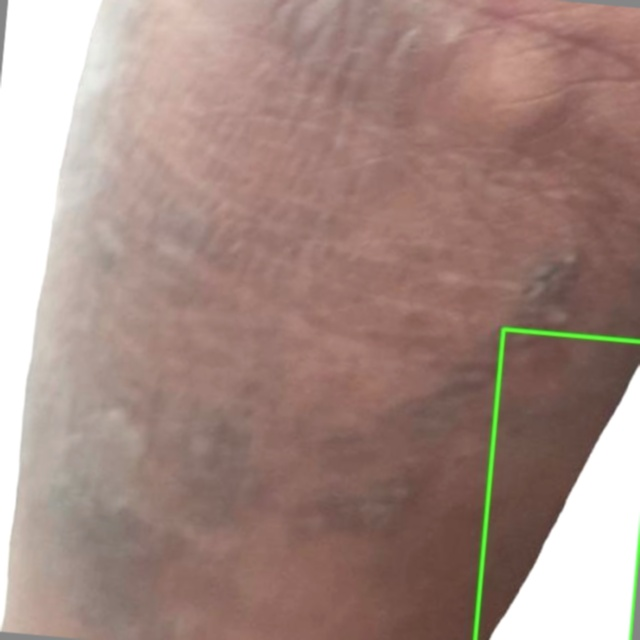Contact Dermatitis: (475, 329, 639, 639)
